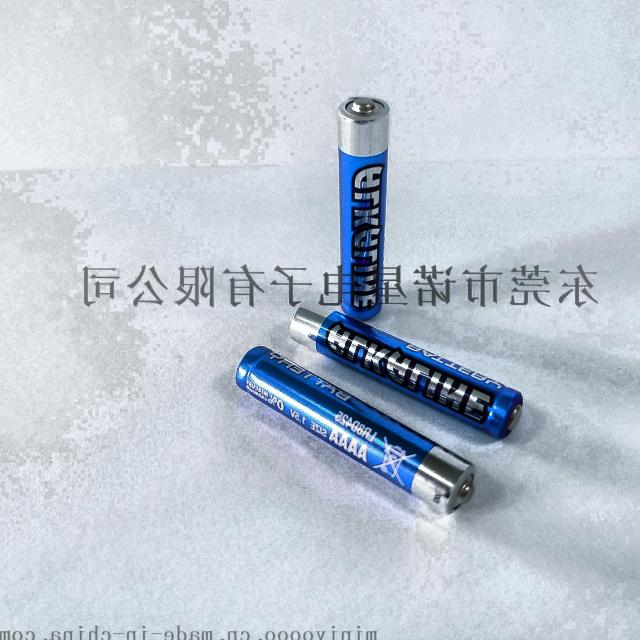Non-Valuable Waste - Batteries: (236, 346, 474, 513), (290, 308, 523, 438), (338, 97, 390, 320)
